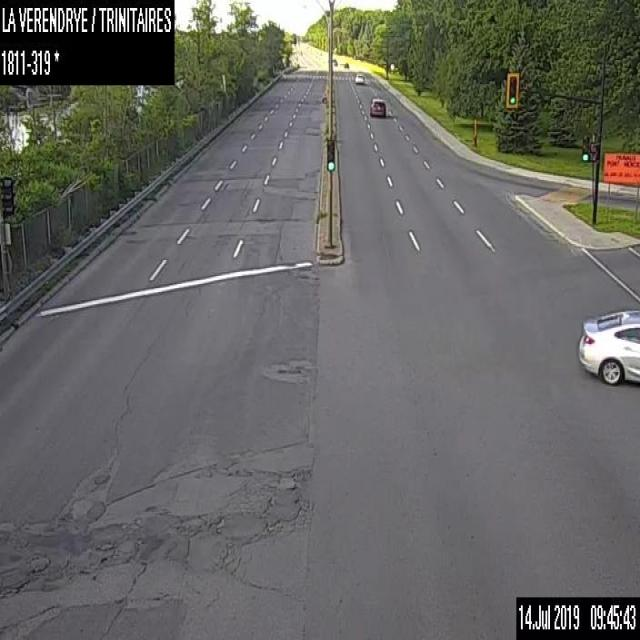vehicle: (576, 305, 639, 387), (369, 96, 385, 117), (354, 71, 364, 84), (343, 61, 349, 68)
